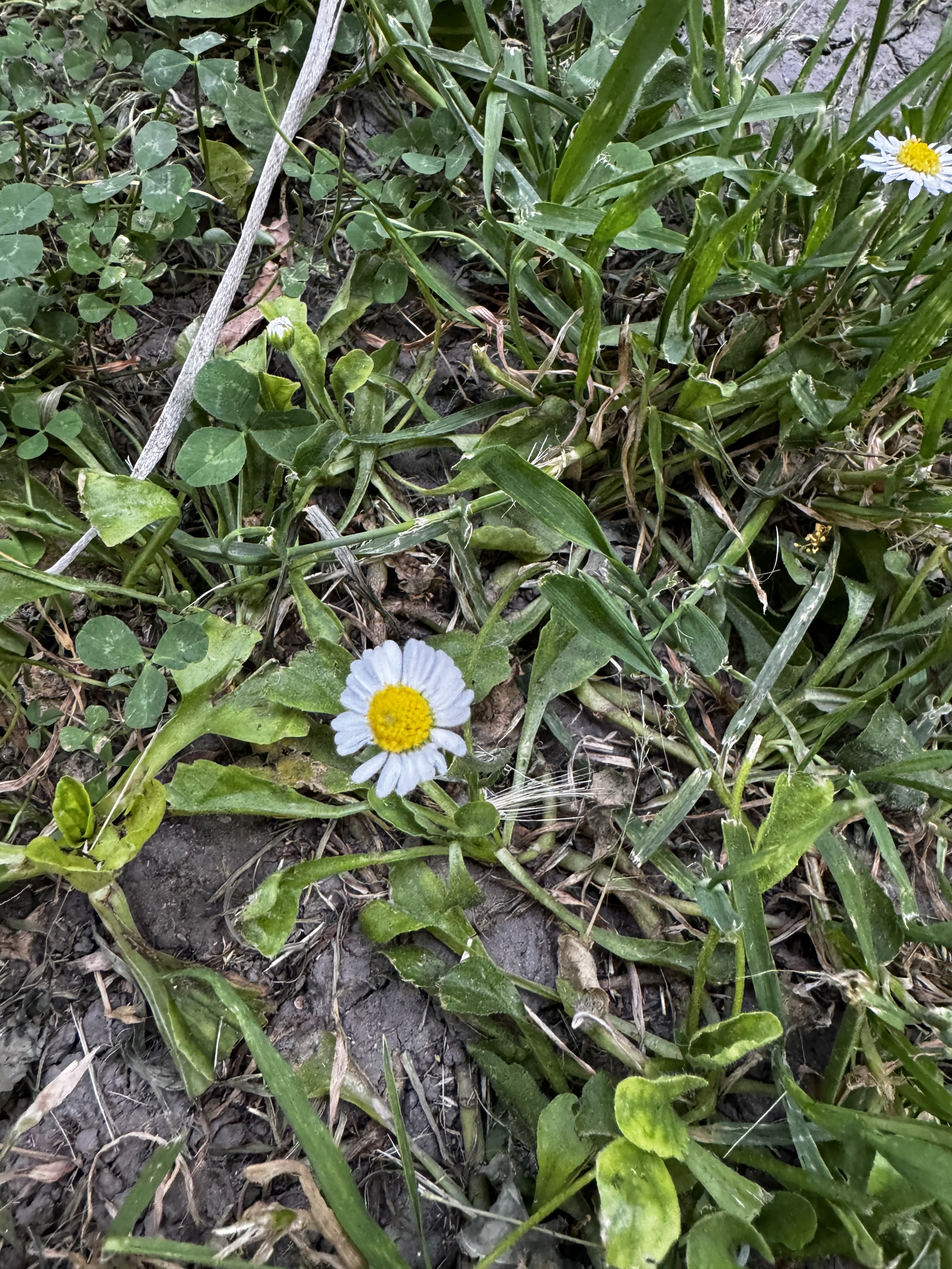daisy: (332, 631, 476, 810), (845, 120, 952, 232)
